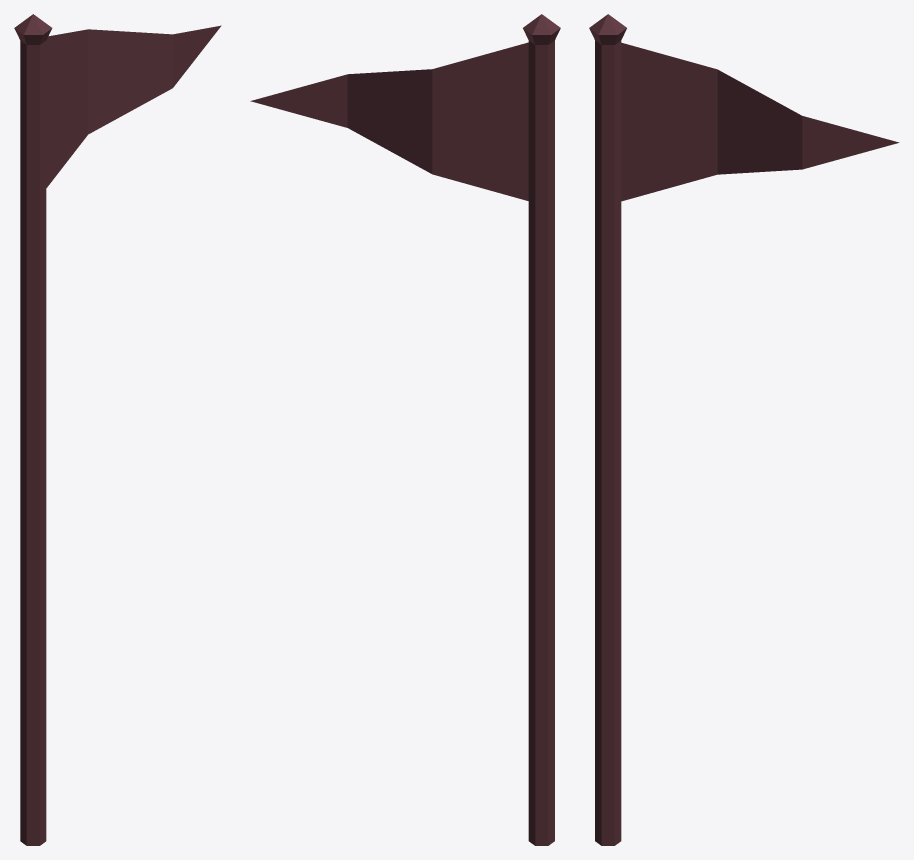
File: flag-golf.fbx
3 views of the same model, side by side, from view 1: azimuth 30°, elevation 25°; view 2: azimuth 150°, elevation 25°; view 3: azimuth 330°, elevation 25° (orthographic).
Visible parts, largest first — view 1: flag-golf; view 2: flag-golf; view 3: flag-golf.
Part boxes in pixels (x1=…): flag-golf: x1=14, y1=14, x2=221, y2=845; flag-golf: x1=250, y1=14, x2=560, y2=845; flag-golf: x1=589, y1=14, x2=899, y2=845.
Bounding box in the file's own units: 0.6649 × 2.07 × 0.2771.
